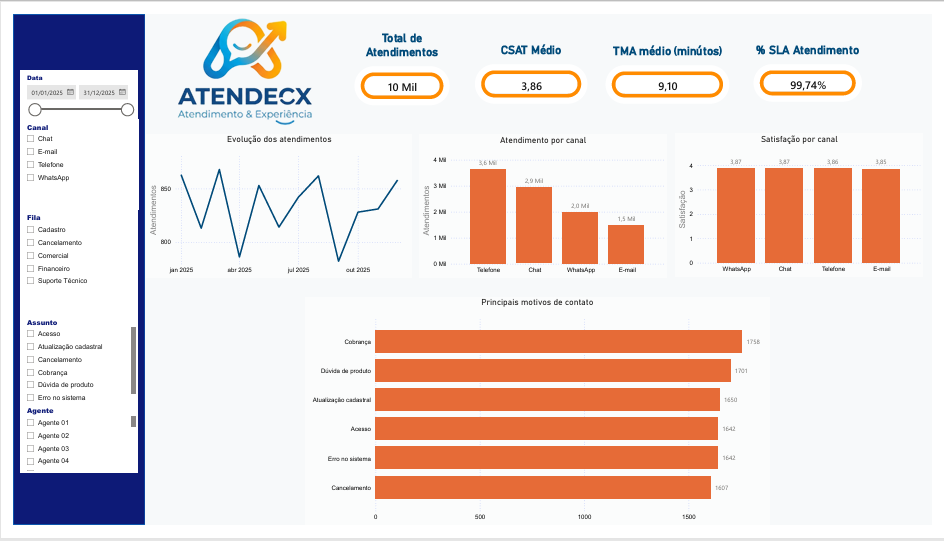

The page's visual inventory and layout, read from the dashboard file:
{"tool":"powerbi","page":{"name":"Visão Executiva","canvas":[1800,1000],"ordinal":0},"visuals":[{"type":"shape","box":[0,0,258,1000],"z":0},{"type":"cardVisual","title":"Total de Atendimentos","fields":{"Data":["Atendimento.Total de atendimentos"]},"box":[664,34,196,149],"z":1000},{"type":"cardVisual","title":"CSAT Médio","fields":{"Data":["ABC_Produtos.CSAT Médio"]},"box":[900,56,230,124],"z":2000},{"type":"cardVisual","title":"TMA médio (minútos)","fields":{"Data":["ABC_Produtos.TMA Médio"]},"box":[1156,58,252,122],"z":3000},{"type":"cardVisual","title":"% SLA Atendimento","fields":{"Data":["Atendimento.% SLA Atendido"]},"box":[1446,56,222,120],"z":4000},{"type":"lineChart","title":"Evolução dos atendimentos","fields":{"Y":["Atendimento.Total de atendimentos"],"Category":["Atendimento.Data.Variation.Hierarquia de datas.Ano","Atendimento.Data.Variation.Hierarquia de datas.Mês"]},"box":[261,235,521,281],"z":5000},{"type":"clusteredColumnChart","title":"Atendimento por canal","fields":{"Category":["Atendimento.Canal"],"Y":["Atendimento.Total de atendimentos"]},"box":[796,236,485,281],"z":6000},{"type":"slicer","fields":{"Values":["Atendimento.Data"]},"box":[14,110,231,95],"z":7000},{"type":"slicer","fields":{"Values":["Atendimento.Canal"]},"box":[14,206,232,178],"z":8000},{"type":"slicer","fields":{"Values":["Atendimento.Agente"]},"box":[14,762,231,137],"z":9000},{"type":"slicer","fields":{"Values":["Atendimento.Assunto"]},"box":[14,588,231,174],"z":10000},{"type":"slicer","fields":{"Values":["Atendimento.Fila"]},"box":[14,384,231,204],"z":11000},{"type":"image","box":[308,0,292,220],"z":12000},{"type":"clusteredColumnChart","title":"Satisfação por canal","fields":{"Category":["Atendimento.Canal"],"Y":["Atendimento.CSAT Médio"]},"box":[1298,234,485,281],"z":13000},{"type":"clusteredBarChart","title":"Principais motivos de contato","fields":{"Y":["Atendimento.Total de atendimentos"],"Category":["Atendimento.Assunto"]},"box":[572,554,910,446],"z":14000}]}

Visuals, with their boxes on the page's 1800x1000 design canvas (x1, y1, x2, y2). These are canvas units, not pixel positions in the 944x541 screenshot, which may show the page scaled, cropped or inside an application window:
shape: [0,0,258,1000]
"Total de Atendimentos" cardVisual: [664,34,860,183]
"CSAT Médio" cardVisual: [900,56,1130,180]
"TMA médio (minútos)" cardVisual: [1156,58,1408,180]
"% SLA Atendimento" cardVisual: [1446,56,1668,176]
"Evolução dos atendimentos" lineChart: [261,235,782,516]
"Atendimento por canal" clusteredColumnChart: [796,236,1281,517]
slicer - Atendimento.Data: [14,110,245,205]
slicer - Atendimento.Canal: [14,206,246,384]
slicer - Atendimento.Agente: [14,762,245,899]
slicer - Atendimento.Assunto: [14,588,245,762]
slicer - Atendimento.Fila: [14,384,245,588]
image: [308,0,600,220]
"Satisfação por canal" clusteredColumnChart: [1298,234,1783,515]
"Principais motivos de contato" clusteredBarChart: [572,554,1482,1000]
